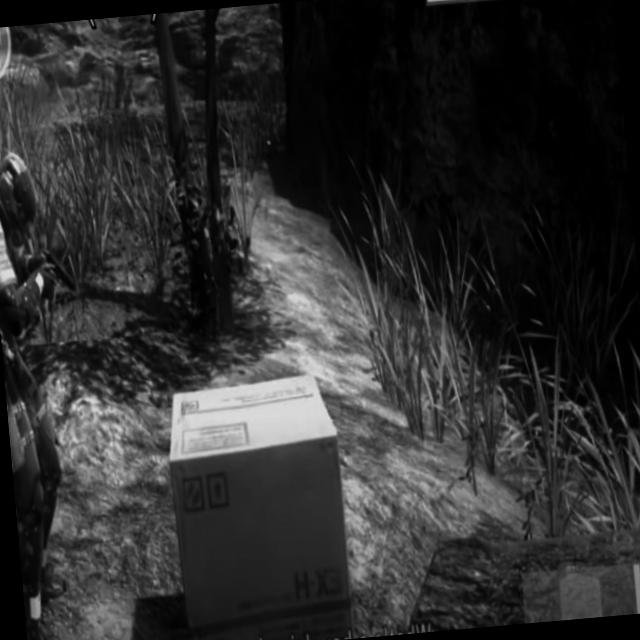snake-in-cardboard-boxes: (159, 369, 356, 640)
